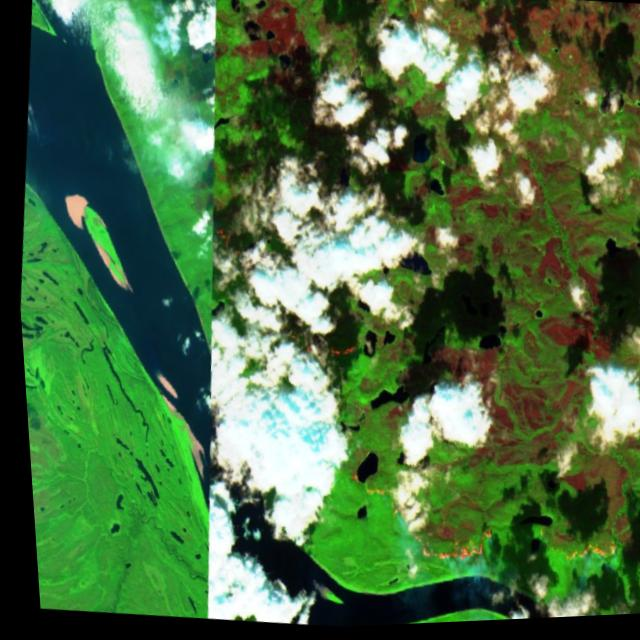fire: (350, 471, 496, 579), (268, 325, 362, 374), (204, 208, 261, 284), (535, 532, 619, 581)
